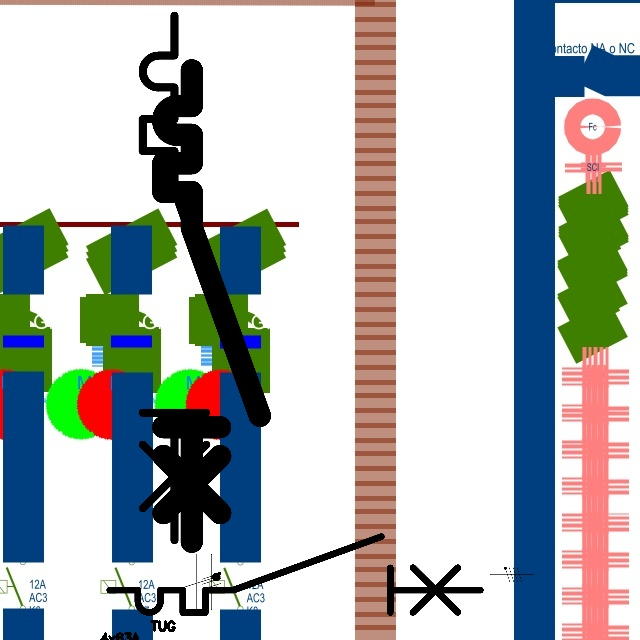interruptor_termomagnetico: (129, 2, 264, 554), (151, 58, 272, 554), (100, 527, 490, 622)
